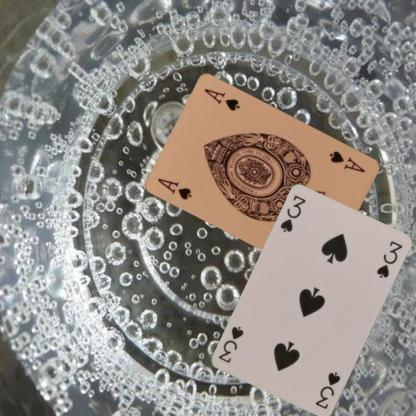3s: (278, 192, 308, 235), (313, 369, 342, 411)
As: (326, 148, 367, 174), (155, 175, 193, 201)
